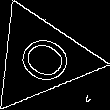O_SE: (5, 26, 77, 91)
